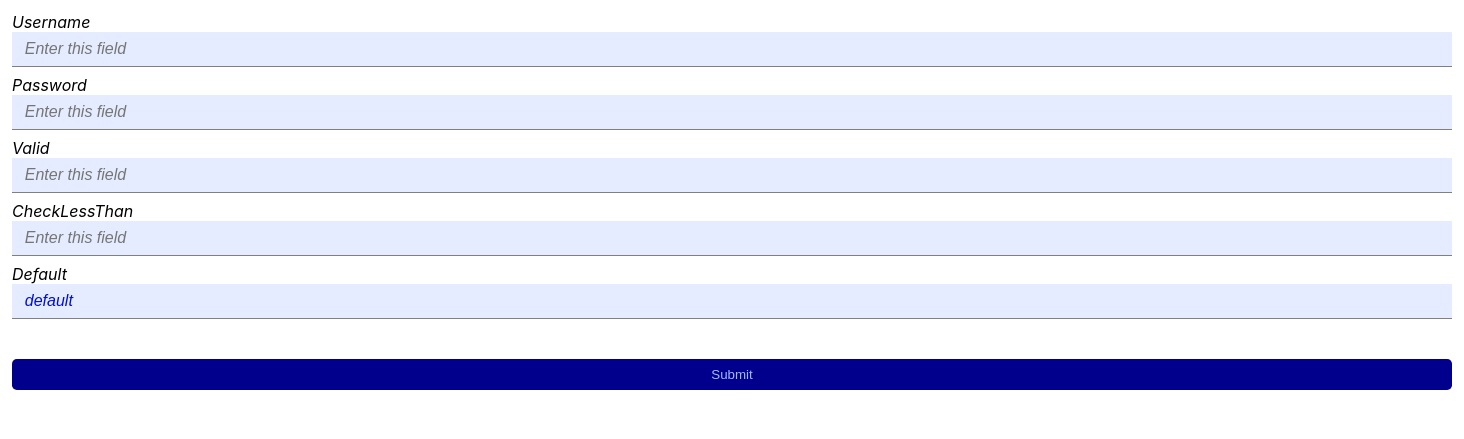
Test case: Form testing › should show validate all inputs when click submit
The width and height of the screenshot is (1464, 439).
Click the button with test id "submit": (732, 374) [12, 359, 1452, 390]
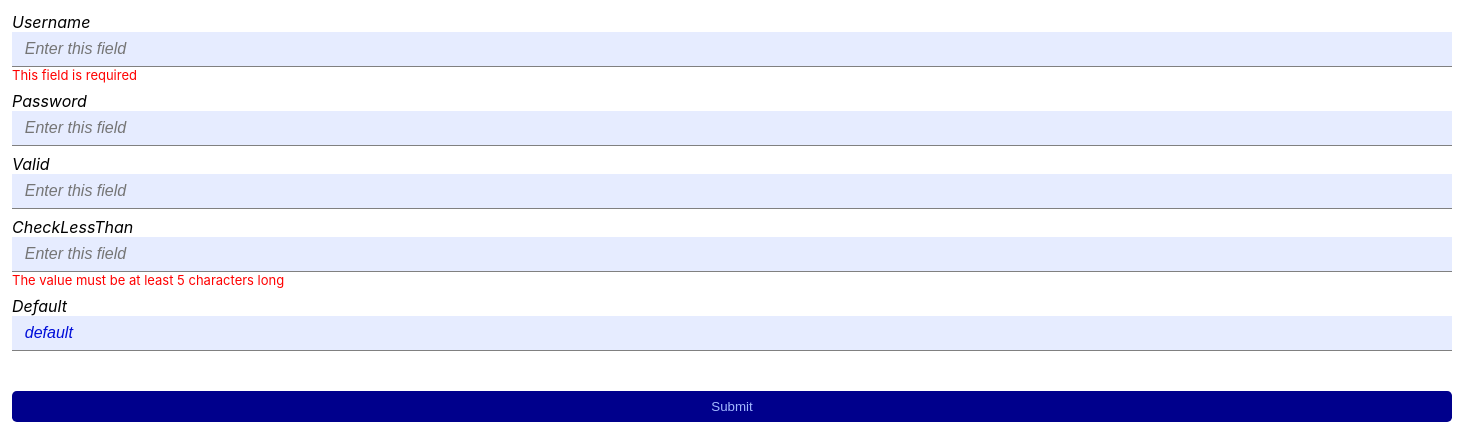
Expected: the text "This field is required" is shown, [12, 67, 137, 83]
